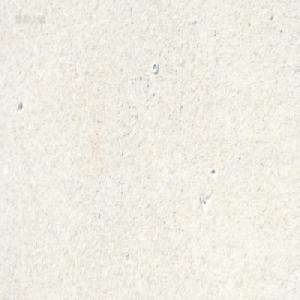Washer: (151, 61, 157, 73)
